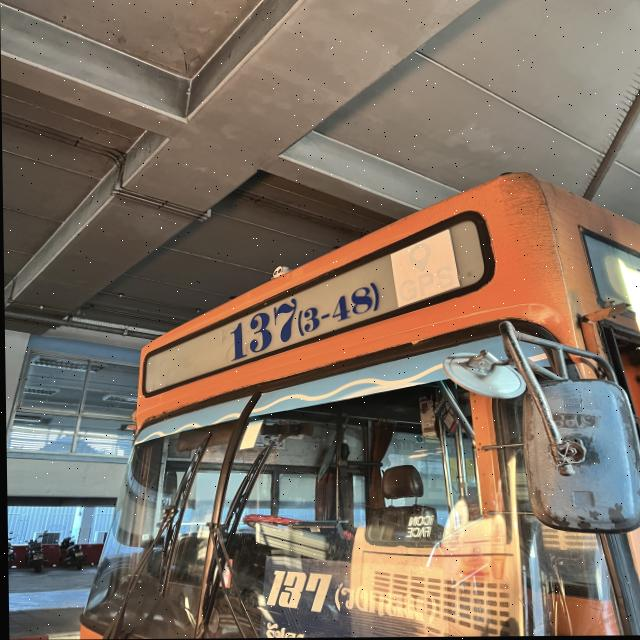BMTA-bus: (72, 172, 640, 640)
Bus-Line-Number: (222, 277, 380, 365)
Destination-Sign-Normal: (260, 557, 458, 638)
